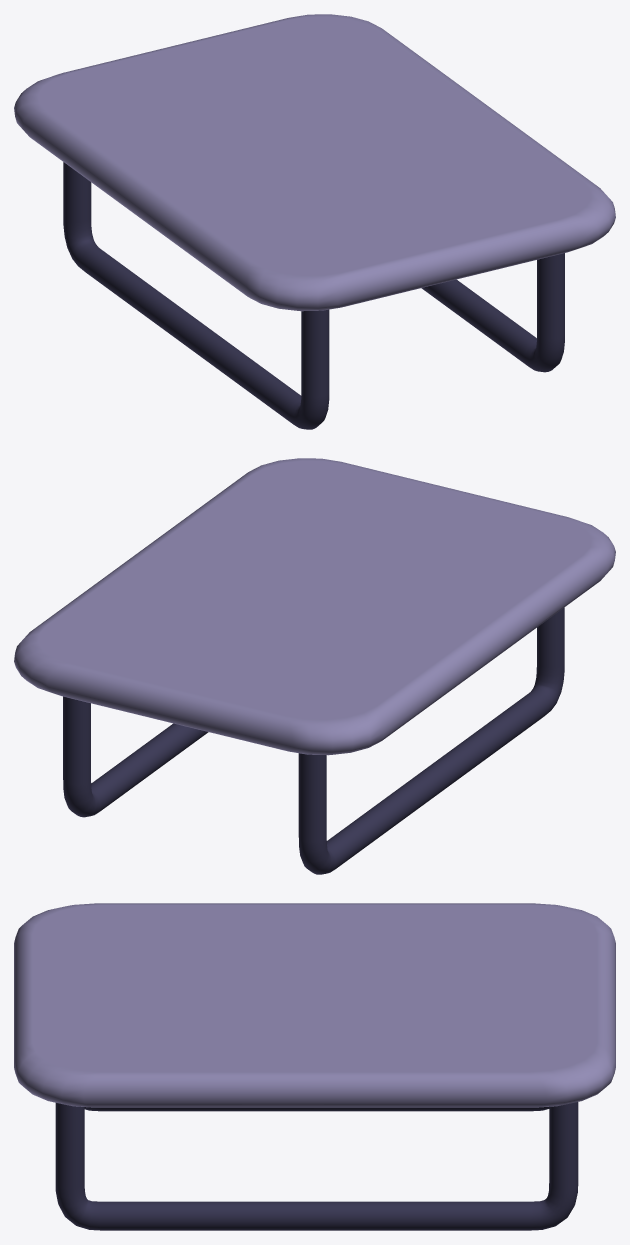
Rendered from Table.fbx.
The picture shows the model from 3 angles, top to bottom: view 1: azimuth 30°, elevation 25°; view 2: azimuth 150°, elevation 25°; view 3: azimuth 270°, elevation 25°; orthographic projection. The views are drawn at different scales.
Parts seen in each view (by area): view 1: Table; view 2: Table; view 3: Table.
Boxes of the visible parts, x1,y1,x2,y2 form: Table: (14, 14, 615, 429); Table: (14, 458, 615, 874); Table: (14, 903, 615, 1230).
Size of the model in its own units: 11.59 by 5.35 by 16.13.
